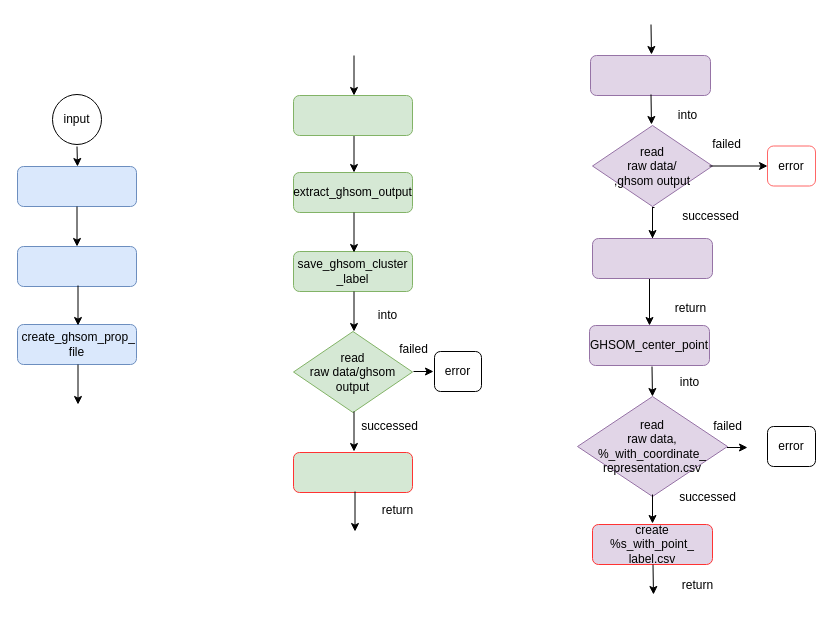
This 833x620 diagram has some shape labels left out. The centre of each missing label's shape, as x and y in pixels:
"create %_with_coordinate_ representation.csv" goes at point 652,258.
"create file fold" goes at point 76,186.
"create with_cluster_label.csv" goes at point 352,472.
"create_ghsom_input_ file" goes at point 76,266.
"ghsom_clustering" goes at point 352,115.
"save_cluster_witj _coordinate_repres entation_label" goes at point 650,75.
